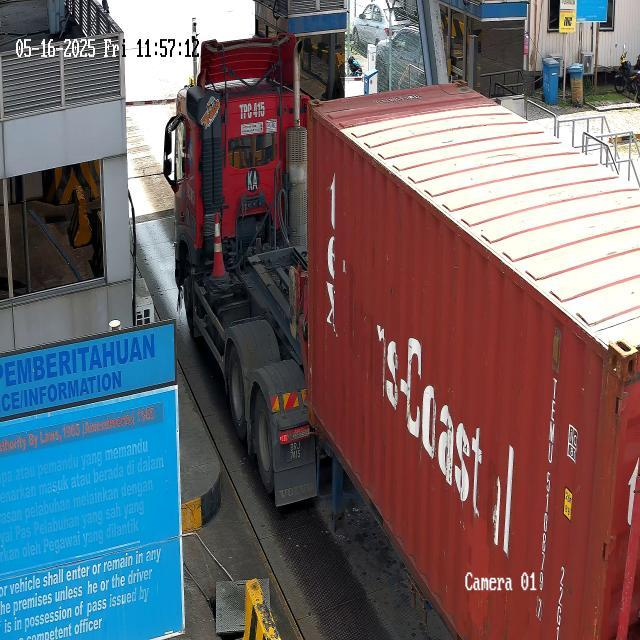ISO: (550, 552, 574, 640)
container_number: (534, 365, 560, 620)
